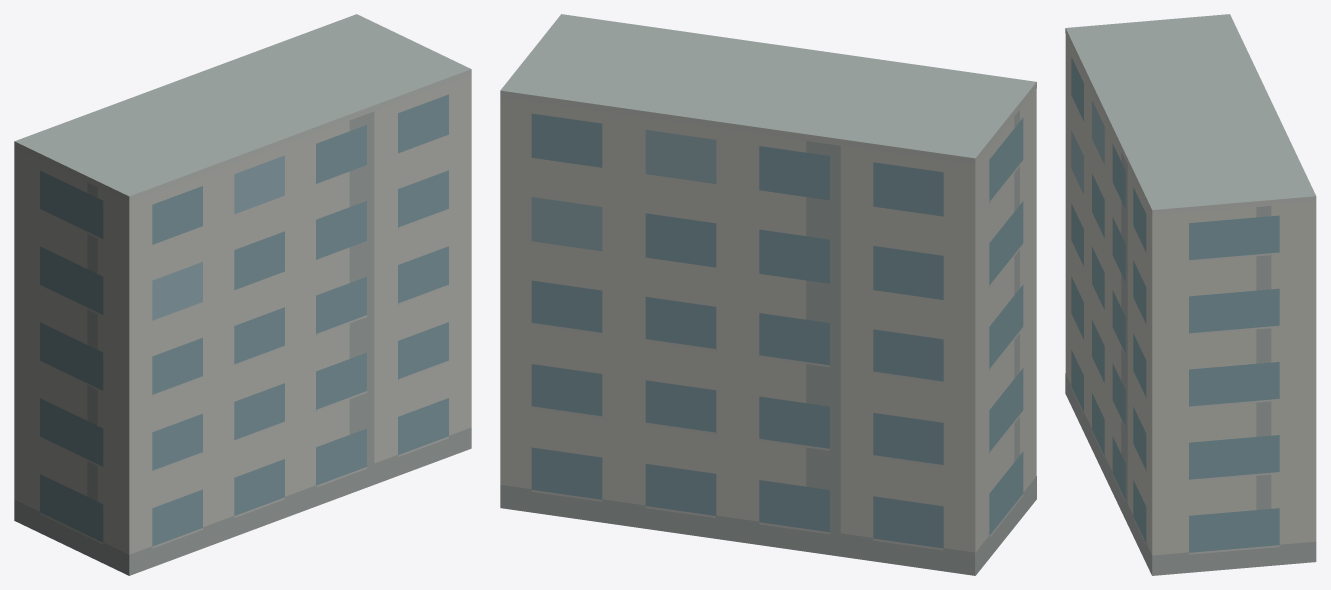
File: residential-84c897e3-7bb6-454a-9a54-9d7a0ab92edd.glb
3 views of the same model, side by side, from view 1: azimuth 30°, elevation 25°; view 2: azimuth 150°, elevation 25°; view 3: azimuth 270°, elevation 25° (orthographic). The views are drawn at different scales.
Visible parts, largest first — view 1: residential-84c897e3-7bb6-454a-9a54-9d7a0ab92edd.tmp; view 2: residential-84c897e3-7bb6-454a-9a54-9d7a0ab92edd.tmp; view 3: residential-84c897e3-7bb6-454a-9a54-9d7a0ab92edd.tmp.
Boxes of the visible parts, box(x1,y1,x2,y2) form: residential-84c897e3-7bb6-454a-9a54-9d7a0ab92edd.tmp: box(14, 14, 471, 575); residential-84c897e3-7bb6-454a-9a54-9d7a0ab92edd.tmp: box(500, 14, 1036, 575); residential-84c897e3-7bb6-454a-9a54-9d7a0ab92edd.tmp: box(1065, 14, 1316, 575).
Bounding box in the file's own units: 17.54 × 15.25 × 9.49.
